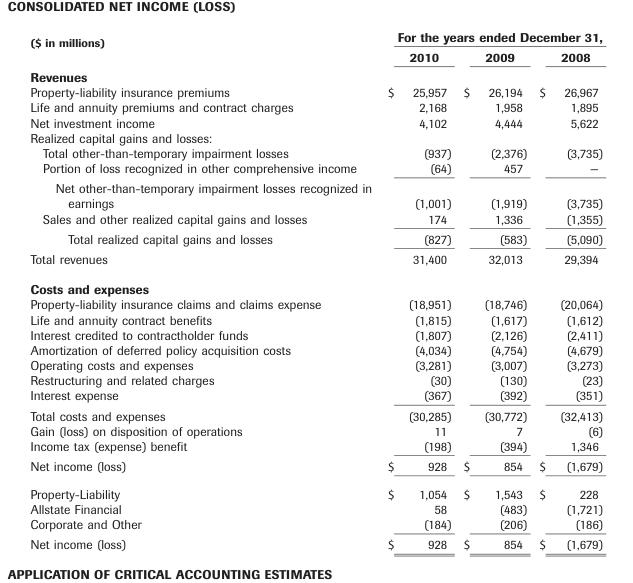table: (29, 28, 601, 551)
table column: (29, 28, 379, 551), (379, 28, 456, 551), (456, 28, 532, 551), (532, 28, 601, 551)
table column header: (29, 28, 601, 66)
table projected row header: (29, 273, 601, 296), (29, 66, 601, 84), (29, 129, 601, 145)
table row: (29, 177, 601, 210), (29, 248, 601, 273), (29, 455, 601, 479), (29, 273, 601, 296), (29, 479, 601, 501), (29, 46, 601, 66), (29, 228, 601, 248), (29, 28, 601, 46), (29, 66, 601, 84), (29, 210, 601, 228), (29, 387, 601, 405), (29, 437, 601, 455), (29, 533, 601, 551), (29, 160, 601, 177), (29, 405, 601, 422), (29, 516, 601, 533), (29, 129, 601, 145), (29, 326, 601, 342), (29, 84, 601, 99), (29, 99, 601, 114), (29, 114, 601, 129), (29, 145, 601, 160), (29, 296, 601, 311), (29, 311, 601, 326), (29, 342, 601, 357), (29, 357, 601, 372), (29, 372, 601, 387), (29, 422, 601, 437), (29, 501, 601, 516)
table spanning cell: (29, 28, 379, 66), (379, 28, 601, 46)
